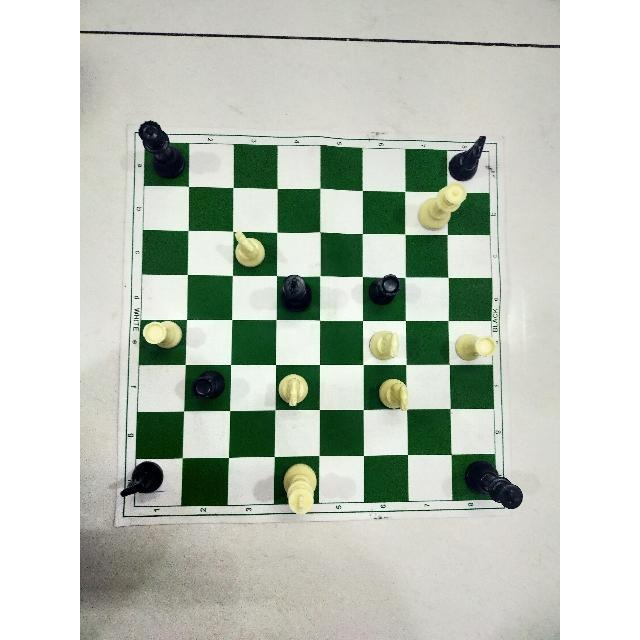black-king: (464, 462, 522, 512), (273, 271, 320, 319)
black-knight: (447, 129, 491, 185), (114, 458, 165, 502)
black-queen: (132, 116, 188, 190)
black-rook: (188, 365, 227, 407), (363, 270, 402, 310)
white-king: (279, 461, 320, 519)
white-knight: (230, 228, 266, 276), (375, 373, 413, 417), (369, 324, 402, 365), (277, 370, 305, 411)
white-queen: (415, 182, 468, 231)
white-rook: (139, 318, 186, 354), (454, 332, 496, 364)
